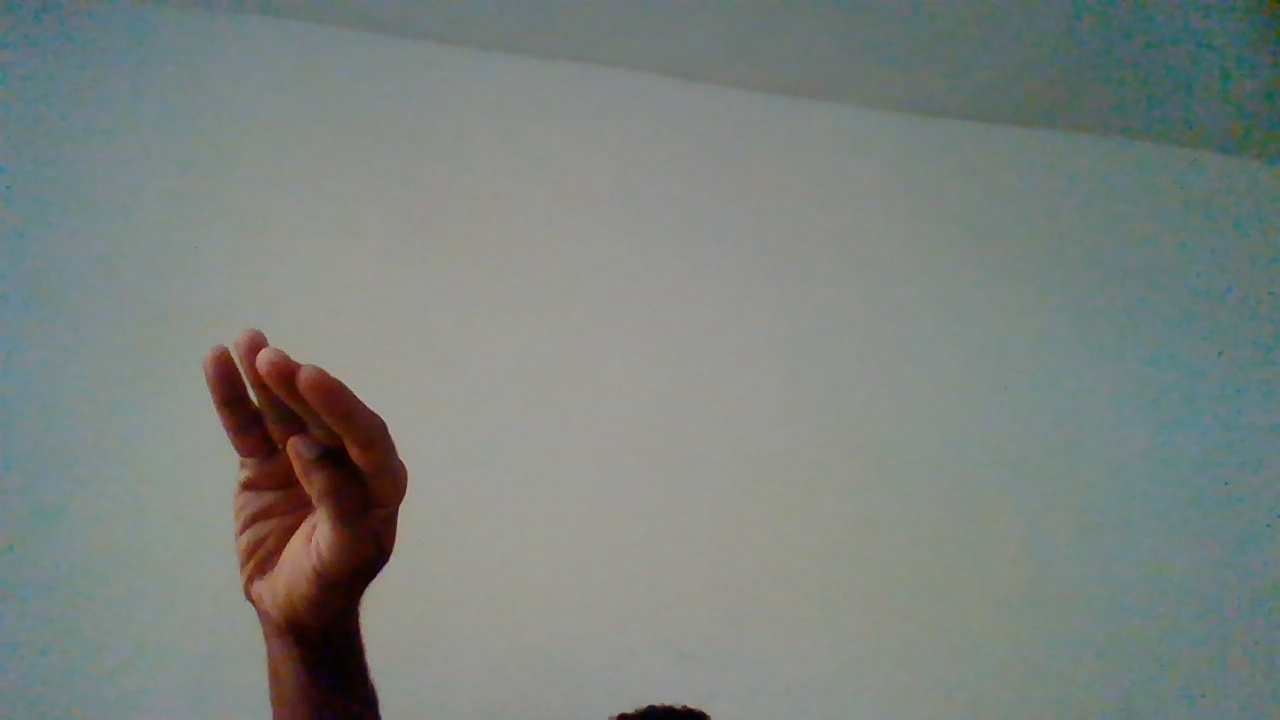me: (203, 327, 407, 700)
